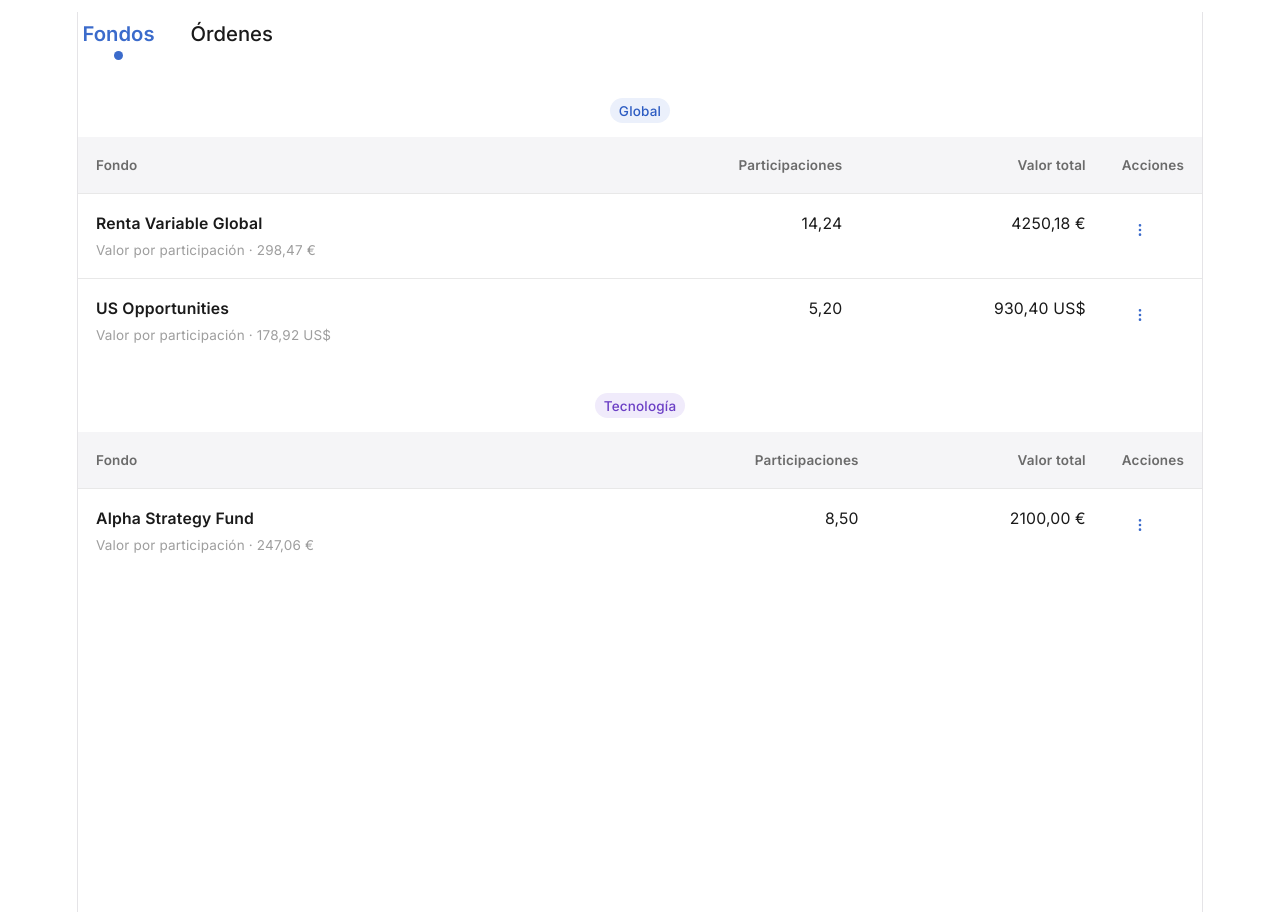
Test case: PortfolioView › shows persisted orders when opening órdenes tab
Click the tab "Órdenes". click: (232,40)
box: [186, 12, 278, 68]
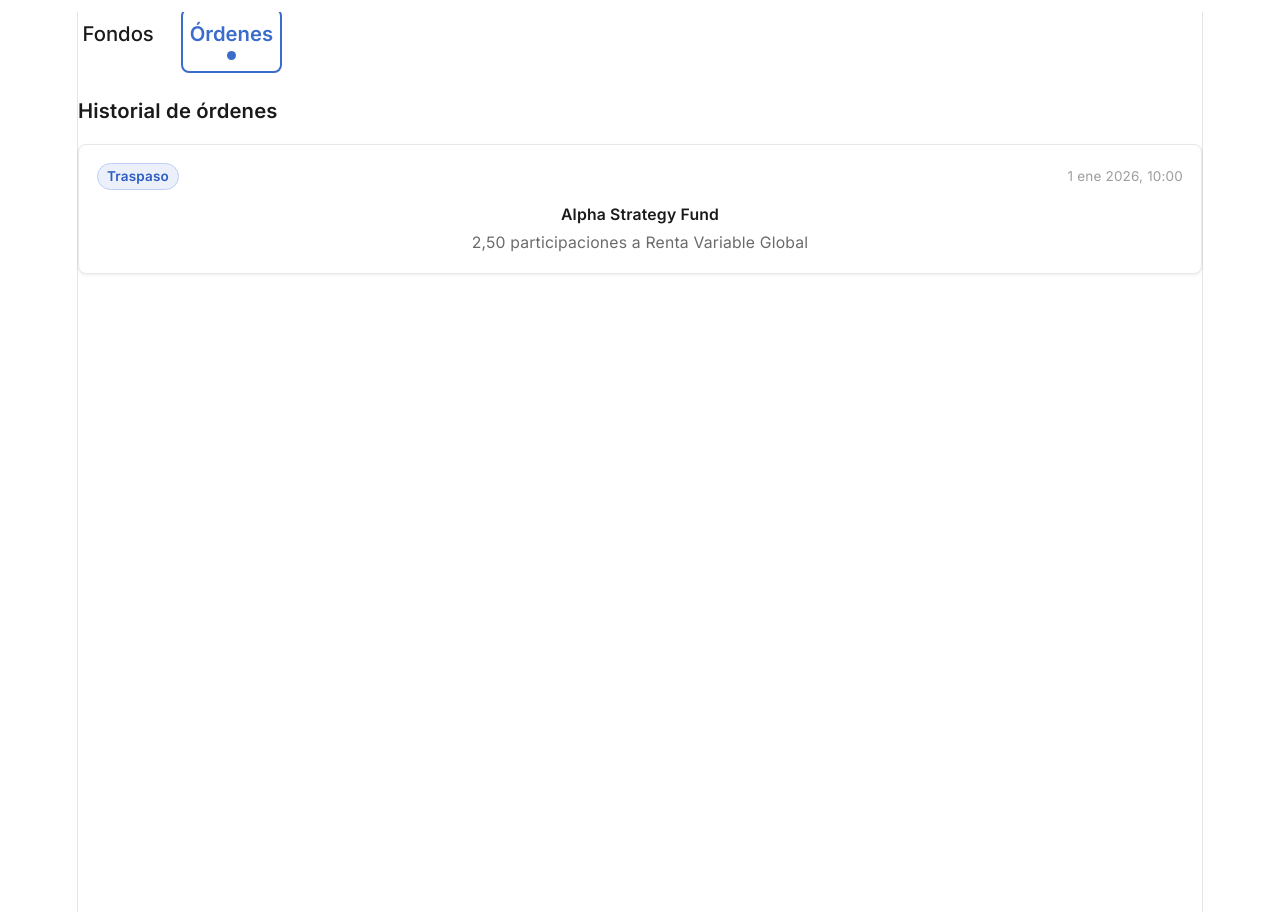
Result: the text "2,50 participaciones a Renta Variable Global" is shown at [472, 233, 808, 252]
